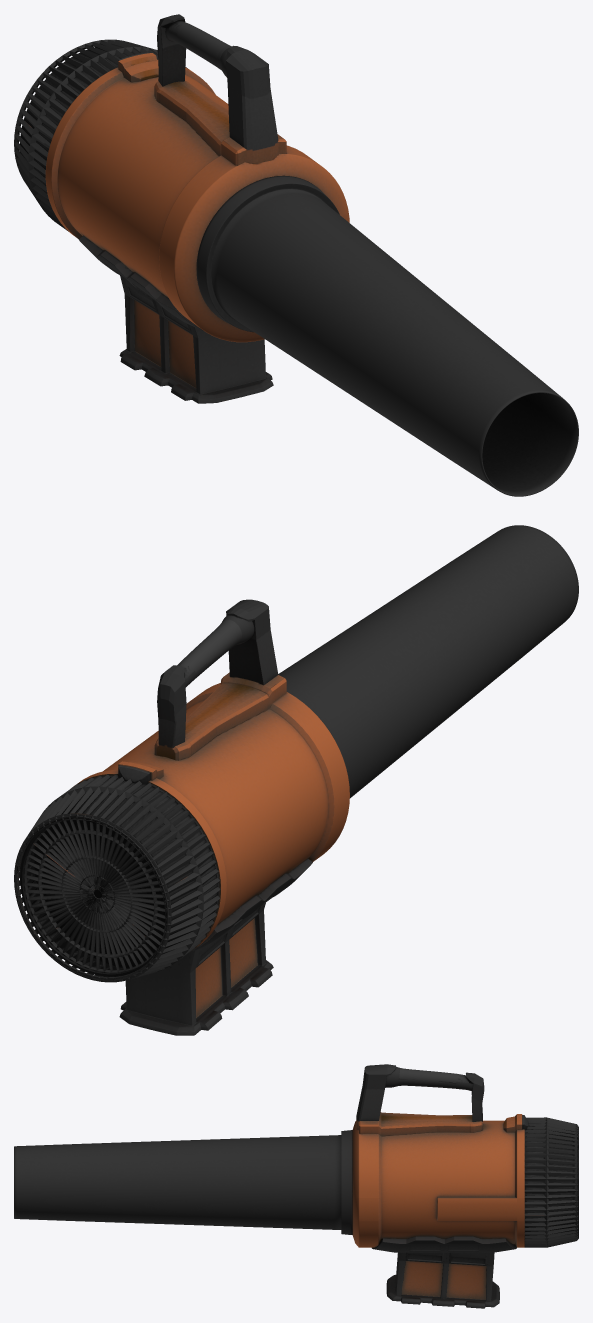
Rendered from Leaf Blower Weapon.fbx.
3 views of the same model, one above another, from view 1: azimuth 30°, elevation 25°; view 2: azimuth 150°, elevation 25°; view 3: azimuth 270°, elevation 25° (orthographic). The views are drawn at different scales.
Visible parts, largest first — view 1: Fixed Bake; view 2: Fixed Bake; view 3: Fixed Bake.
Part boxes in pixels (x1=…): Fixed Bake: x1=14, y1=14, x2=578, y2=496; Fixed Bake: x1=14, y1=525, x2=578, y2=1035; Fixed Bake: x1=14, y1=1064, x2=578, y2=1308.
Bounding box in the file's own units: 13.89 × 60.19 × 27.03.
Materials: 1 (1 with a texture image).
